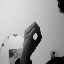o: (22, 21, 43, 52)
